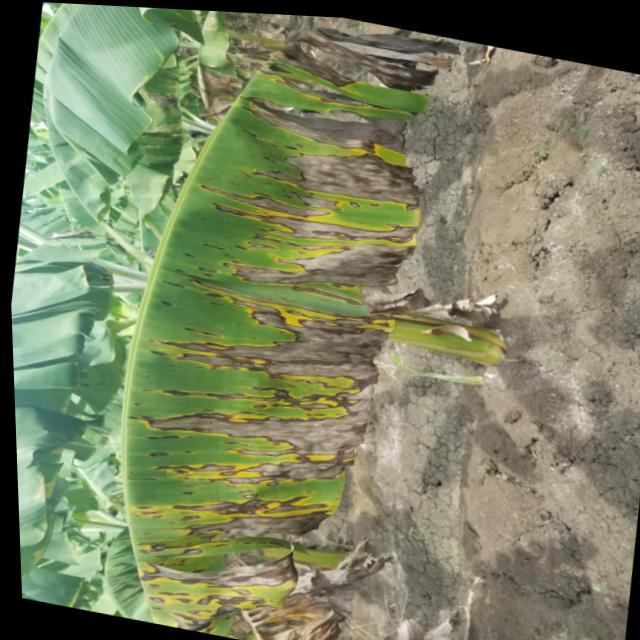Early_rust: (110, 30, 488, 640)
